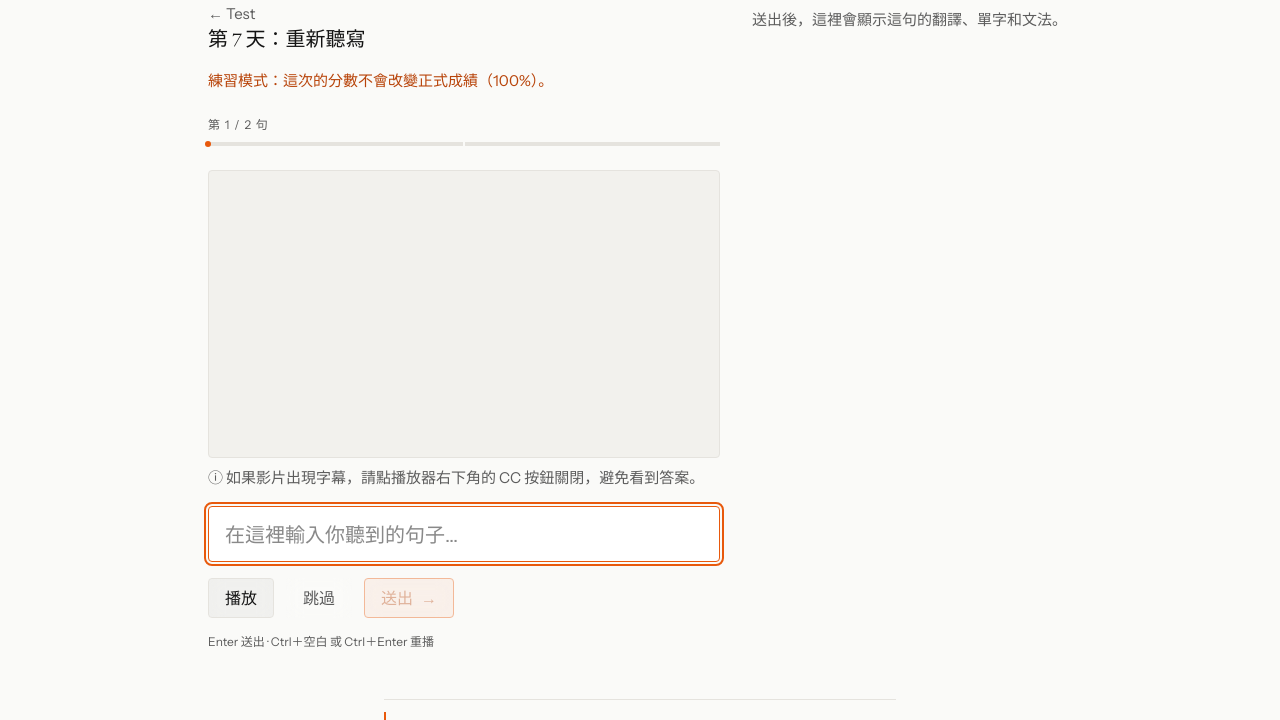
Test: Day 7 re-dictation › keeps the retry screen for extra practice after the week
Type "x" into the text box labelled "你聽到的句子".
click(464, 534); type("x")  # box [208,506,720,562]
Then press Enter
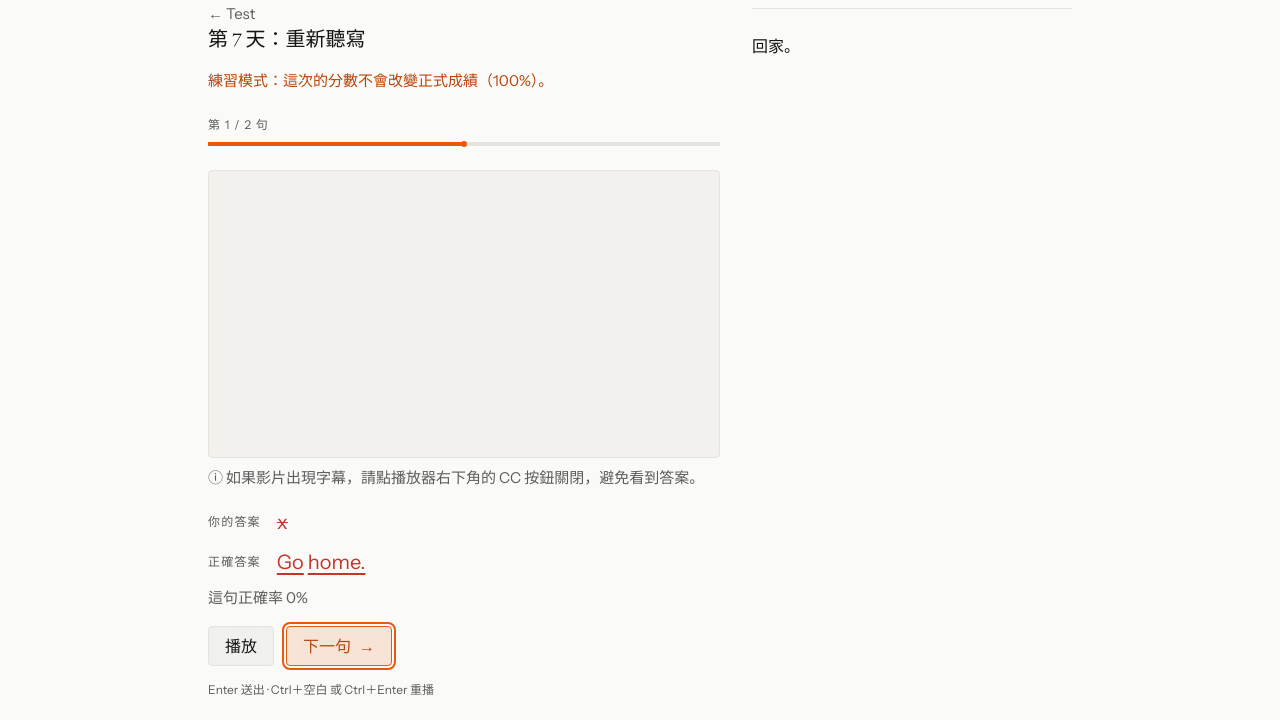
Press Enter
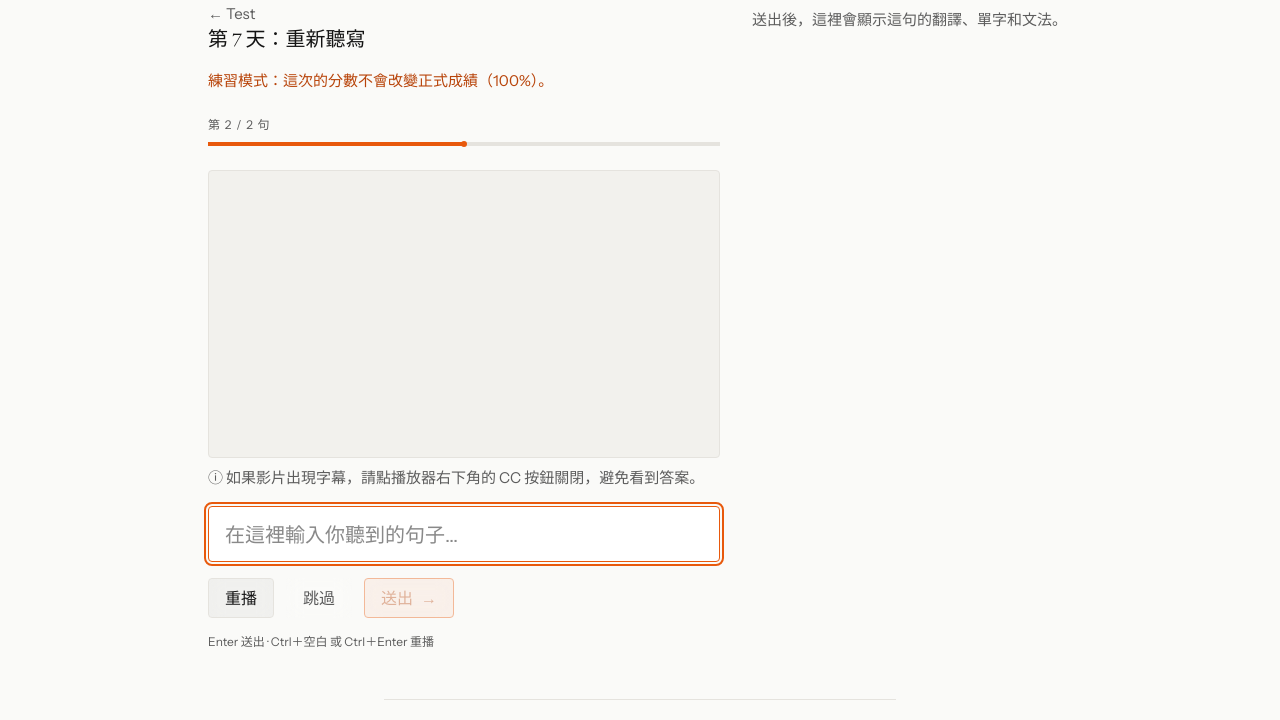
Type "x" into the text box labelled "你聽到的句子".
click(464, 534); type("x")  # box [208,506,720,562]
Then press Enter
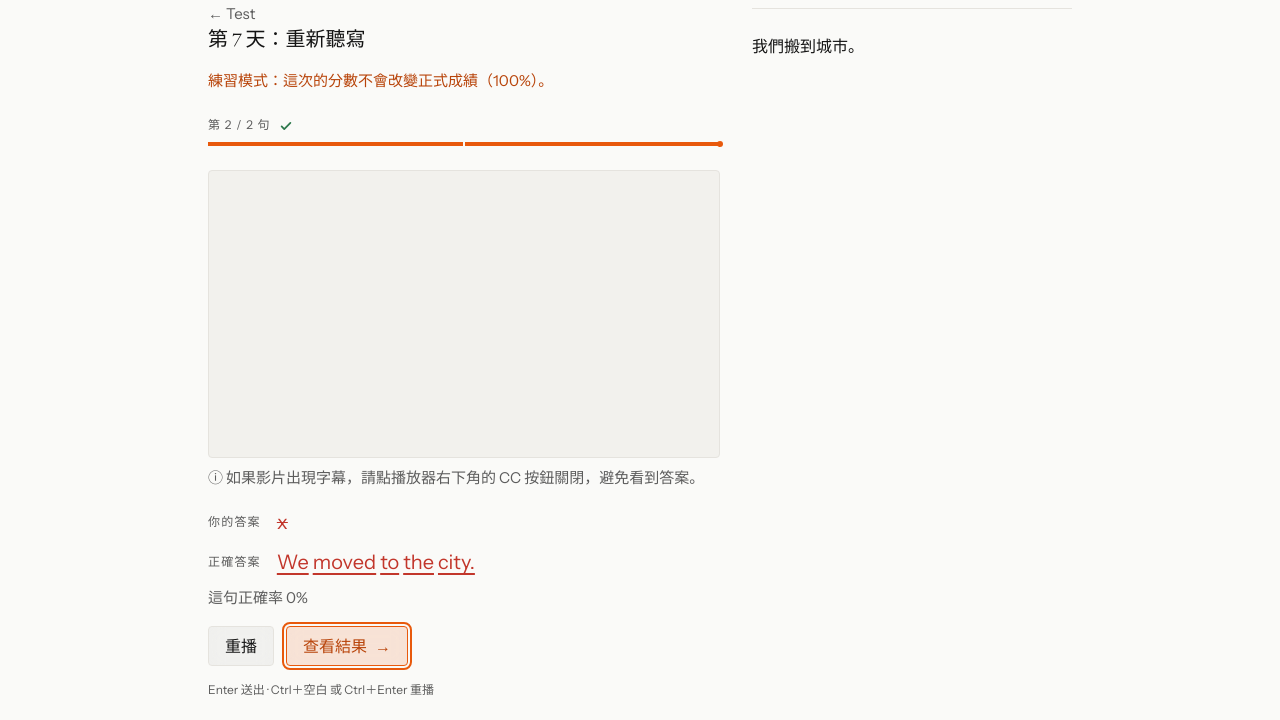
Press Enter
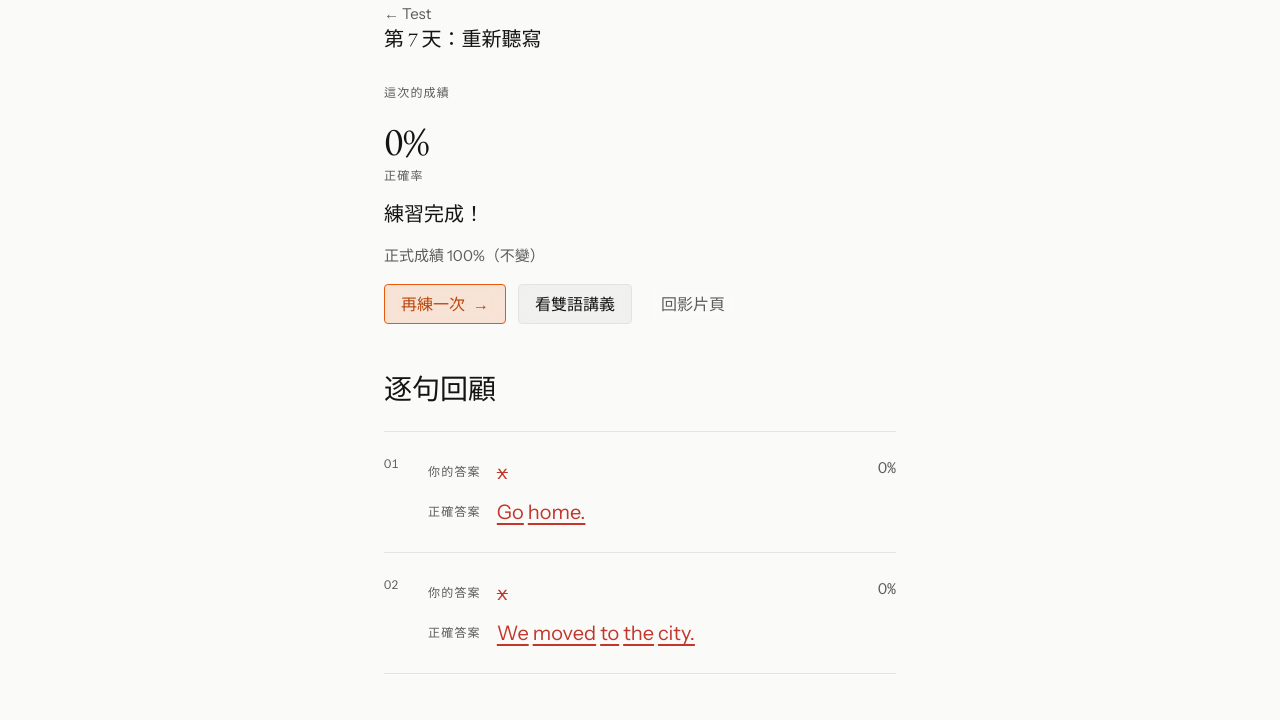
Expected: the text "練習完成！" is shown, [384,201,484,227]
